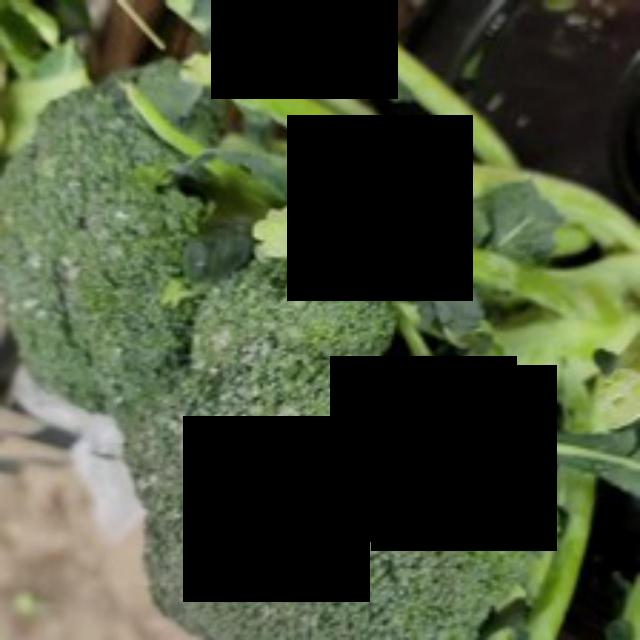broccoli: (114, 251, 554, 637)
